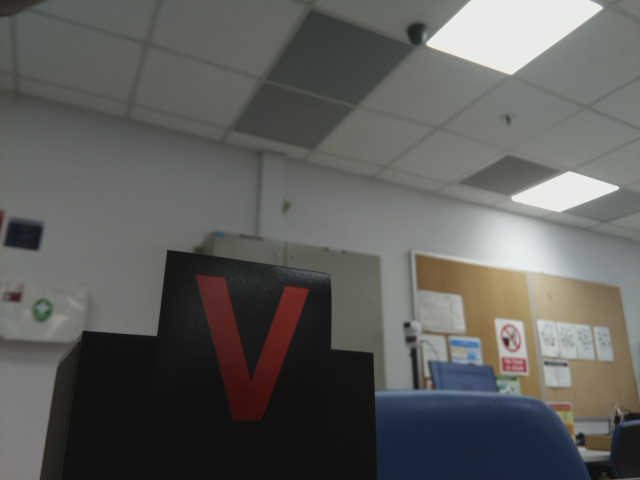v: (183, 269, 328, 444)
